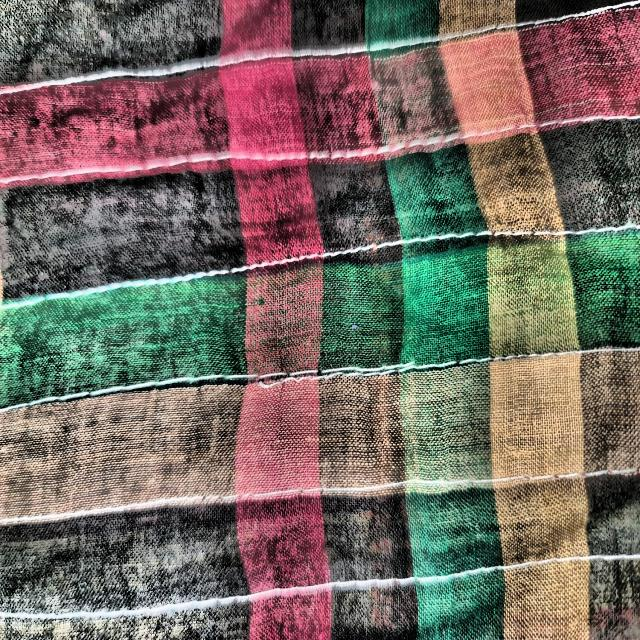Stitch: (245, 345, 542, 411)
